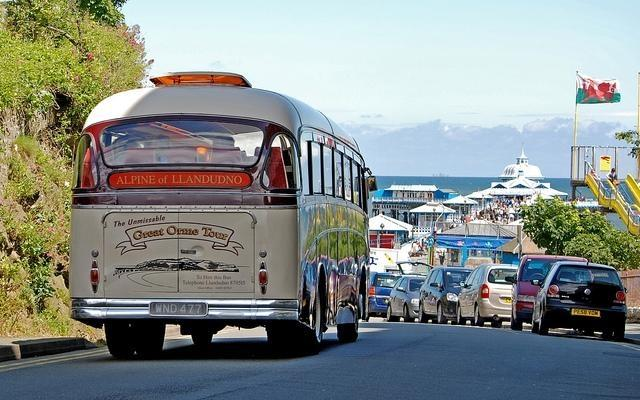bus: (67, 68, 370, 365)
car: (532, 260, 625, 338), (504, 252, 590, 331), (456, 262, 520, 326), (418, 264, 472, 324), (386, 276, 426, 322), (370, 272, 399, 312)
